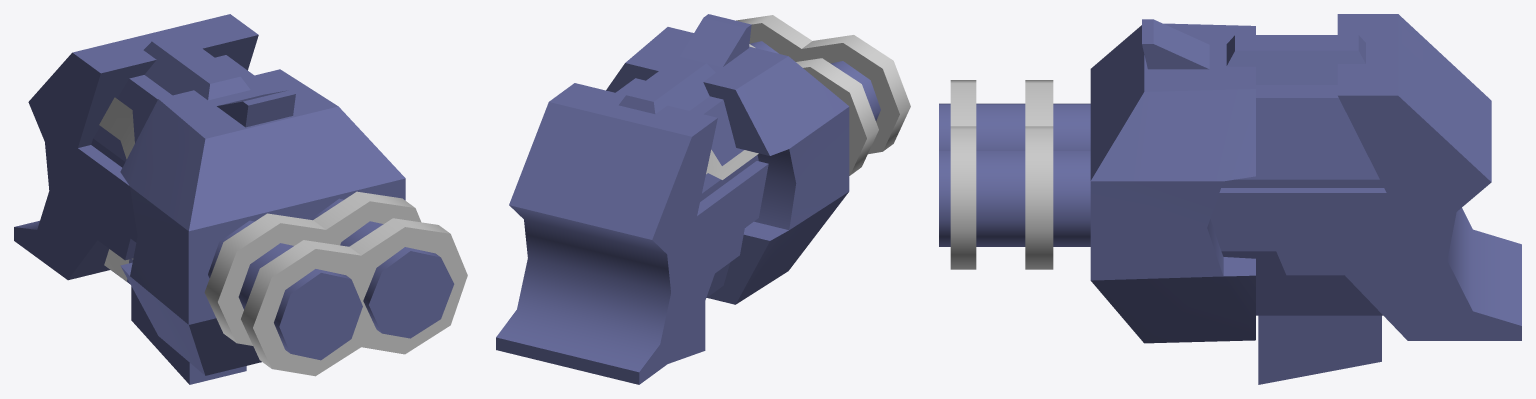
The model's file is MiningLaser Level 3.obj.
3 renders of one model, left to right at view 1: azimuth 30°, elevation 25°; view 2: azimuth 150°, elevation 25°; view 3: azimuth 270°, elevation 25°, orthographic. The views are drawn at different scales.
Visible parts, largest first — view 1: MiningLaser_LV3_Mesh_0191.003; view 2: MiningLaser_LV3_Mesh_0191.003; view 3: MiningLaser_LV3_Mesh_0191.003.
Boxes of the visible parts, x1,y1,x2,y2 form: MiningLaser_LV3_Mesh_0191.003: [14, 14, 467, 384]; MiningLaser_LV3_Mesh_0191.003: [496, 14, 910, 384]; MiningLaser_LV3_Mesh_0191.003: [939, 14, 1521, 384].
Bounding box in the file's own units: 0.9694 × 1.35 × 2.11.
